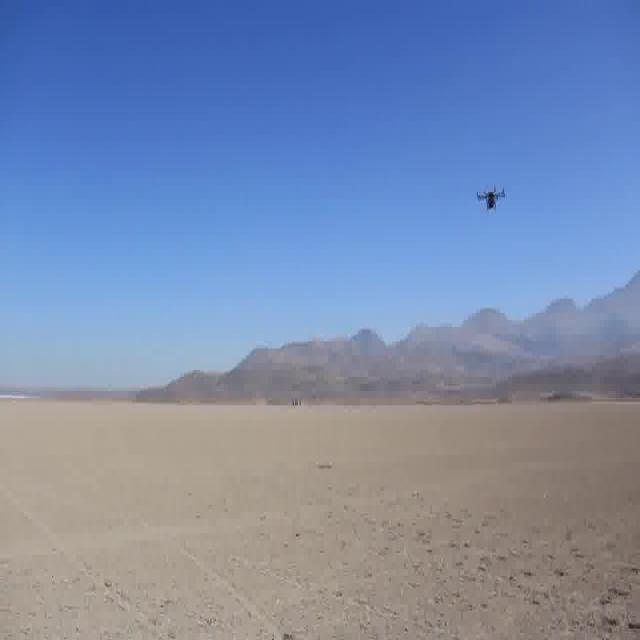Drone_FW: (476, 184, 506, 212)
